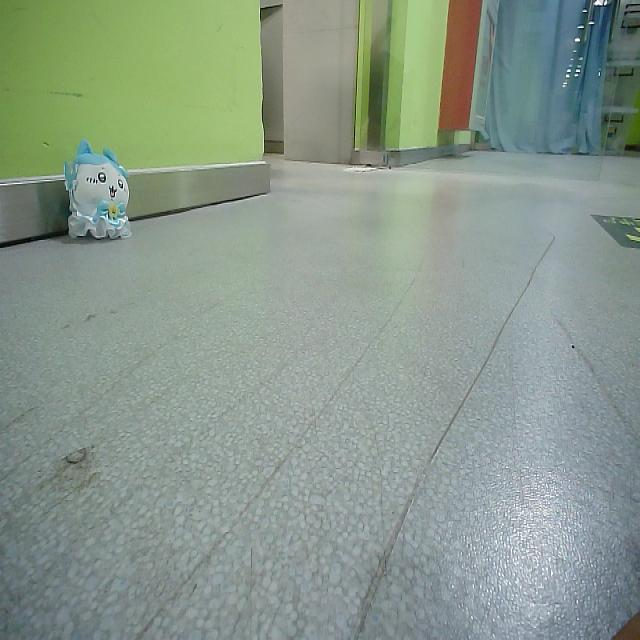xiaoba: (59, 130, 137, 246)
